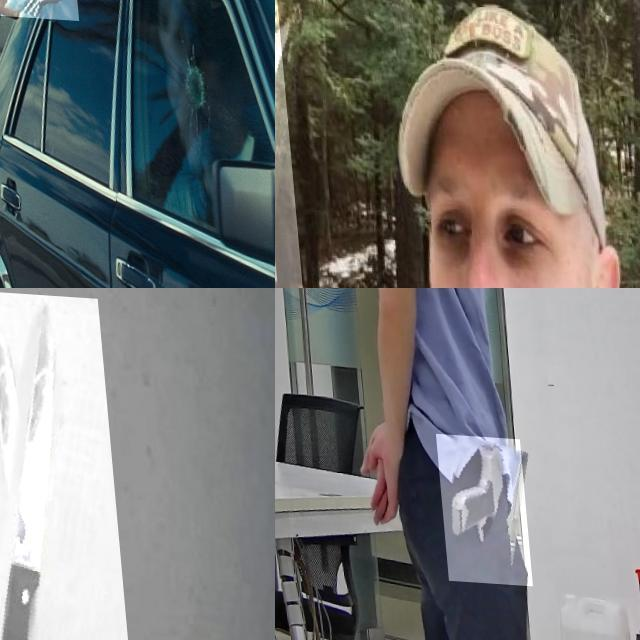-: (0, 288, 131, 640), (275, 0, 406, 288)
gun-knife-thesis - v11 Yolov5 augmented: (430, 432, 525, 582), (0, 0, 73, 77)
